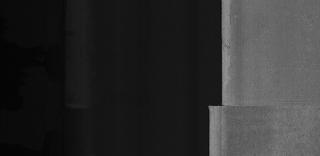oil spot: (222, 38, 232, 54)
welding line: (208, 102, 320, 110)
